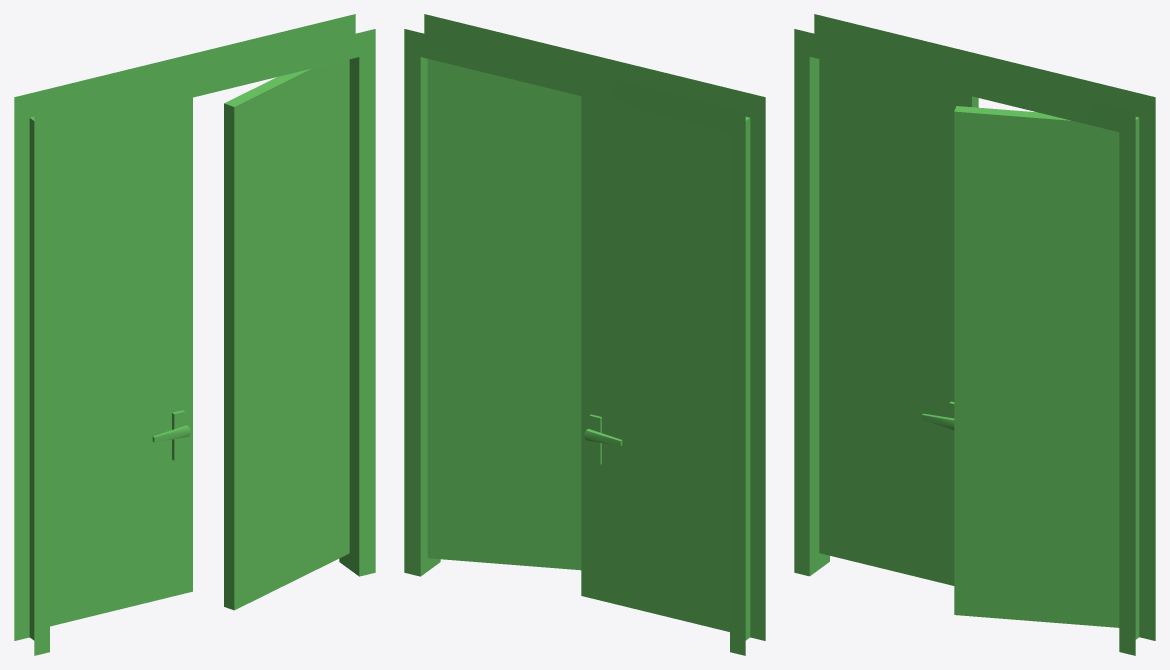
Rendered from Gen_Door_A_HalfOpen.fbx.
The picture shows the model from 3 angles, left to right: view 1: azimuth 30°, elevation 25°; view 2: azimuth 150°, elevation 25°; view 3: azimuth 330°, elevation 25°; orthographic projection.
Parts seen in each view (by area): view 1: Gen_Door_A_HalfOpen; view 2: Gen_Door_A_HalfOpen; view 3: Gen_Door_A_HalfOpen.
Part boxes in pixels (x1,y1,x2,y2): Gen_Door_A_HalfOpen: (14, 14, 375, 655); Gen_Door_A_HalfOpen: (404, 14, 765, 655); Gen_Door_A_HalfOpen: (794, 14, 1155, 655).
Bounding box in the file's own units: 220 × 335 × 46.98.
